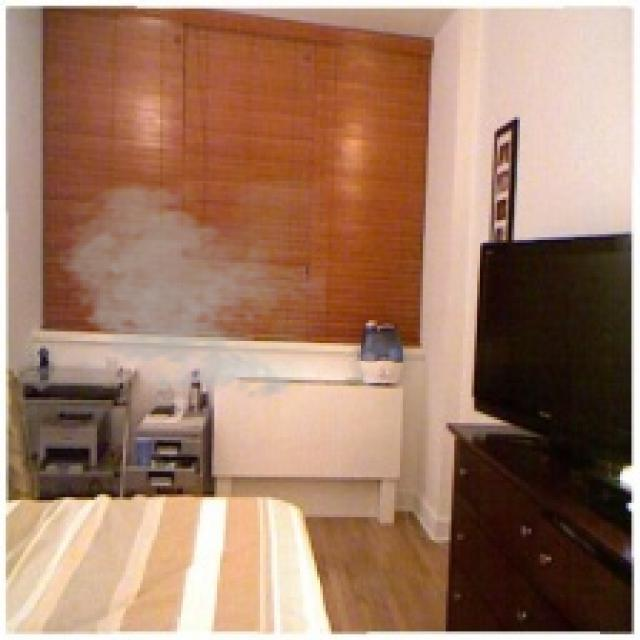Smoke: (48, 177, 326, 406)
